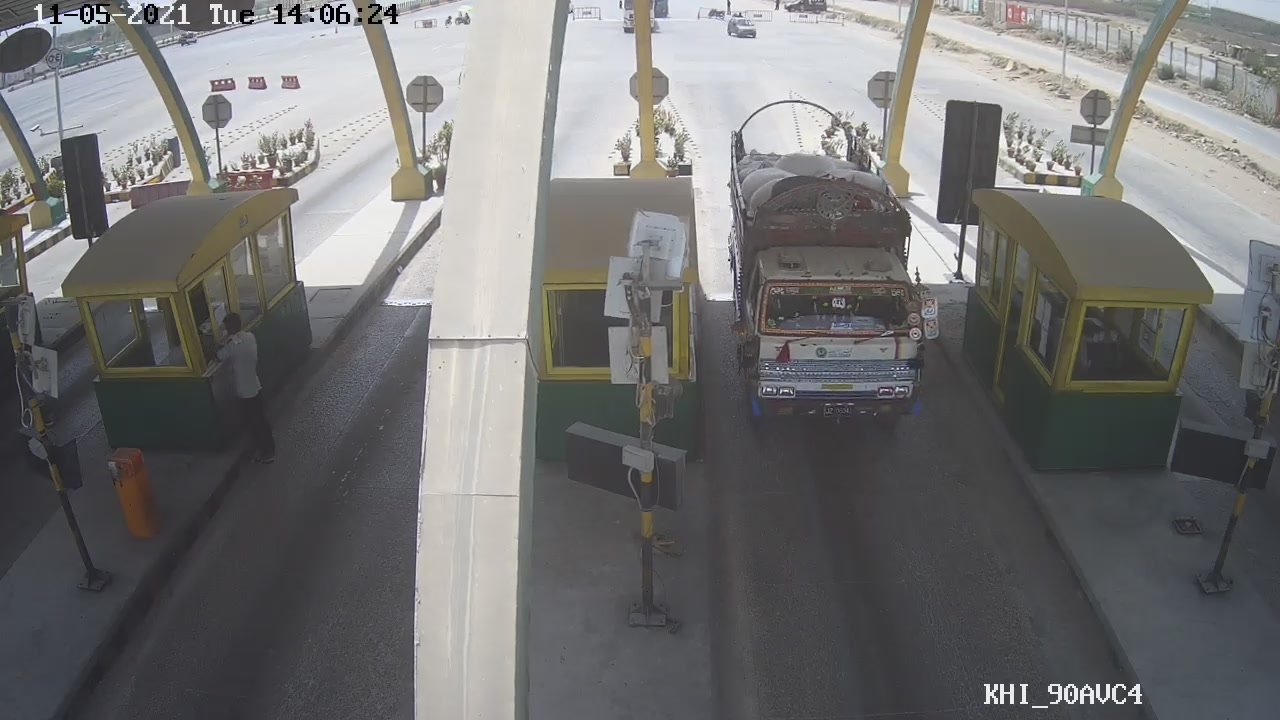F5: (706, 96, 928, 420)
